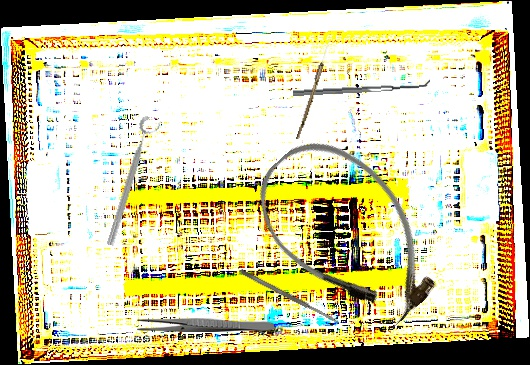Cannula: (235, 116, 462, 350)
Dressing Forceps: (137, 318, 274, 332)
Fixation Ring: (102, 114, 164, 250)
Spatula Surgical: (239, 268, 341, 326), (292, 77, 431, 97)
Surgical Spoon: (296, 37, 332, 140)
